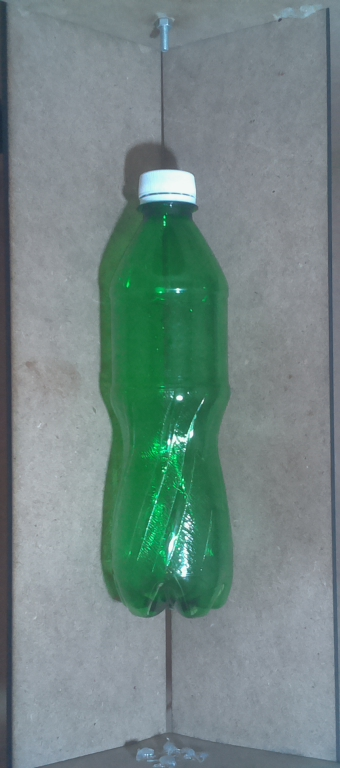Bouteille_0.5L: (96, 161, 241, 626)
